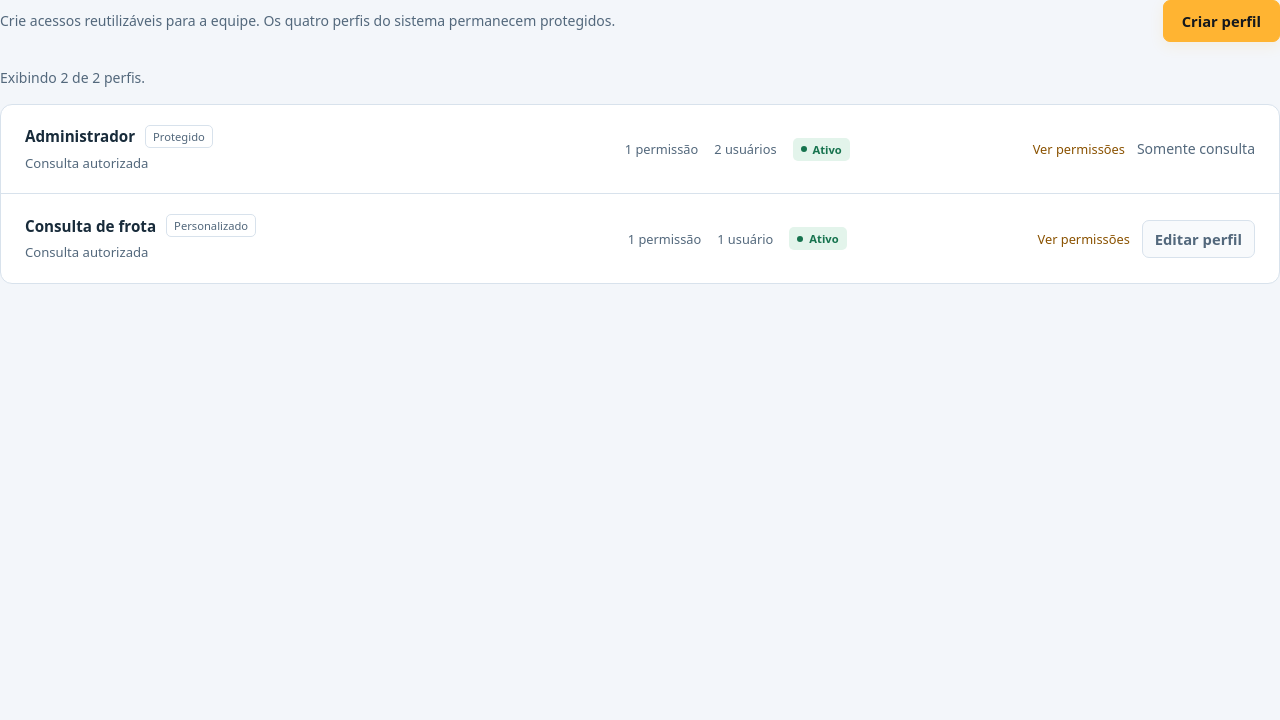
Test: OC112 perfis administrativos › lista sistema protegido e personalizado sem oferecer edição do sistema
Expected: the heading "Administrador" is shown, [25, 126, 135, 146]
Expected: the text "1 permissão" in the row of "usuários" is shown, [625, 140, 698, 158]
Click the button with aria-label "Ver permissões de Administrador".
click(1079, 149)  # box [1033, 130, 1125, 168]
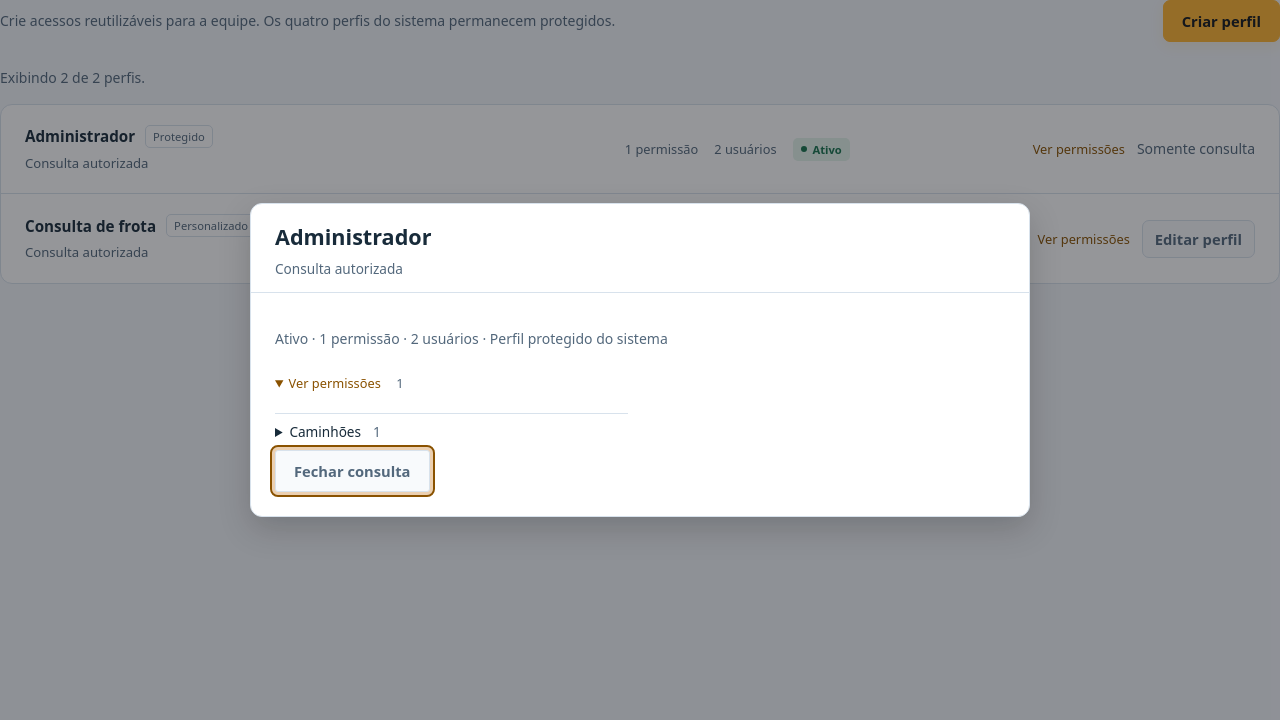
Click the heading "Caminhões1".
click(335, 432)  # box [289, 422, 381, 441]
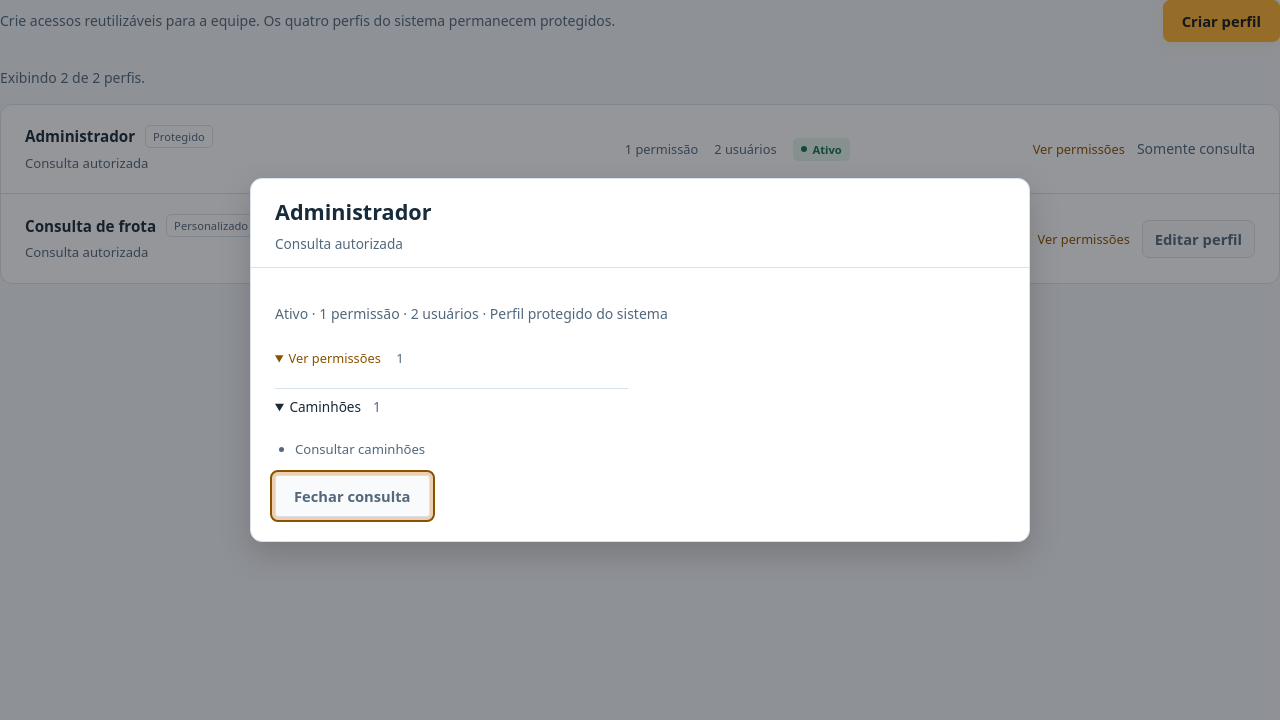
Expected: the list item "Consultar caminhões" is shown, [295, 440, 425, 458]
